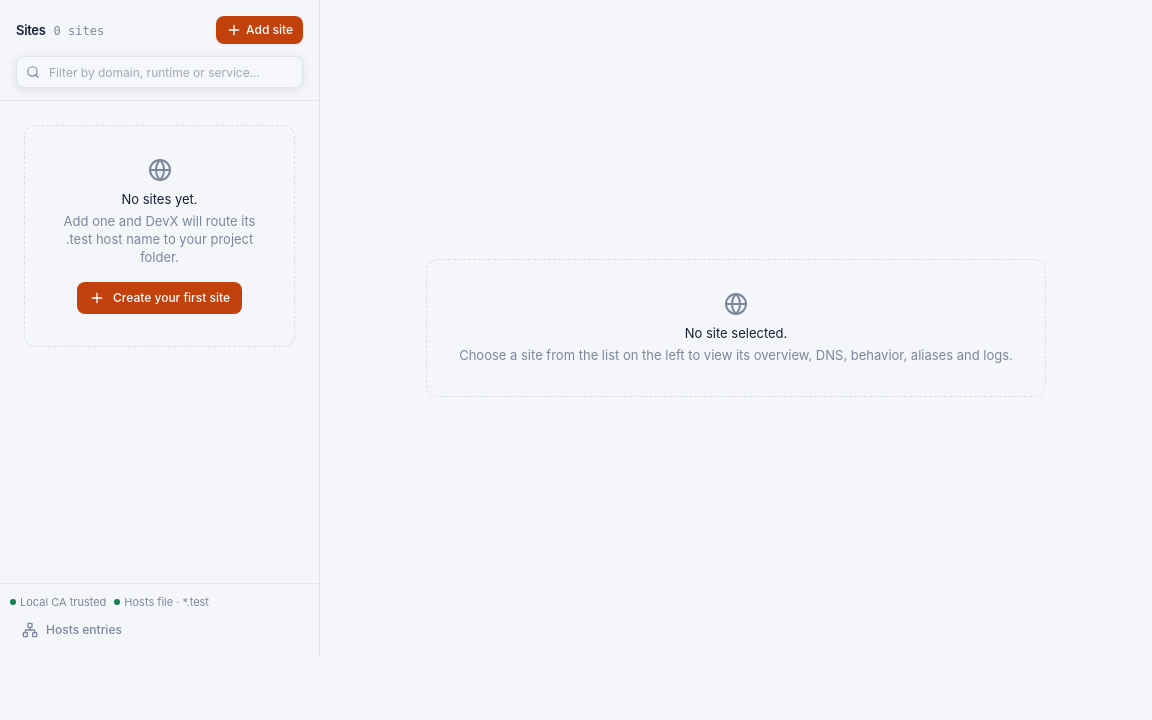
Test: SitesPage › offers the retry for the PHP list inside the dialog that needs it (§39)
Click the button "Add site". click: (260, 30)
box: [216,16,303,44]
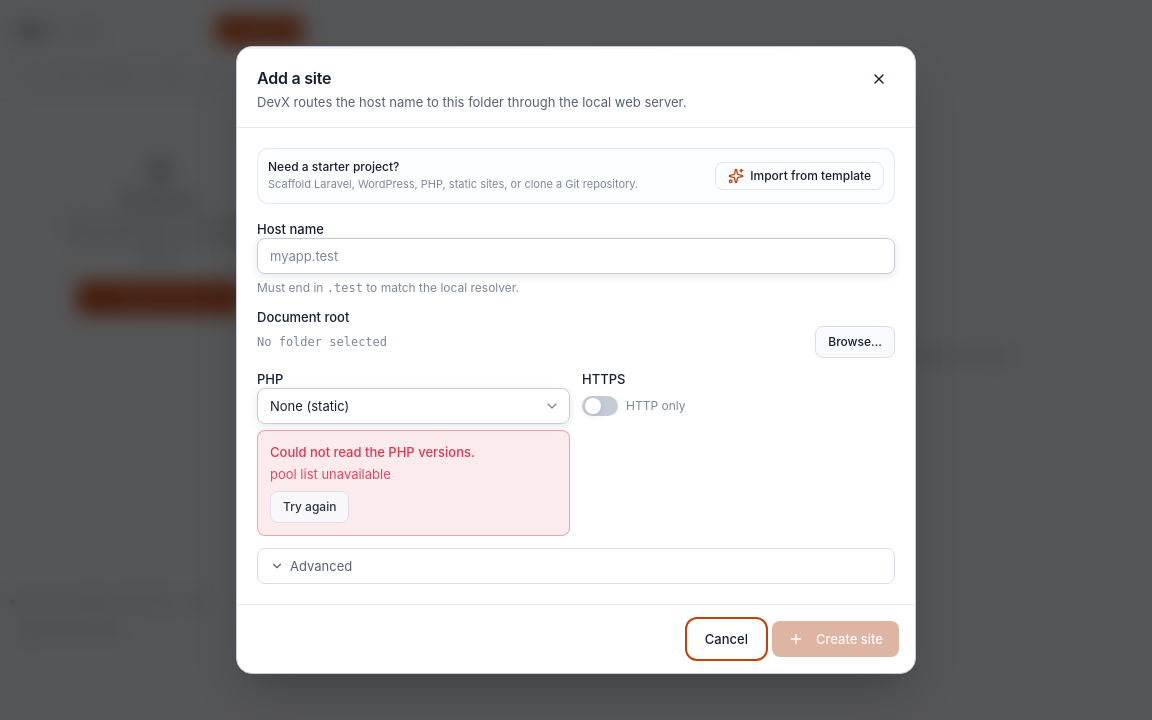
Result: the text "Could not read the PHP versions." is shown at [270,444,475,460]
Result: the text "pool list unavailable" is shown at [270,466,391,482]
Click the button "Try again". click: (310, 507)
box: [270,491,349,523]
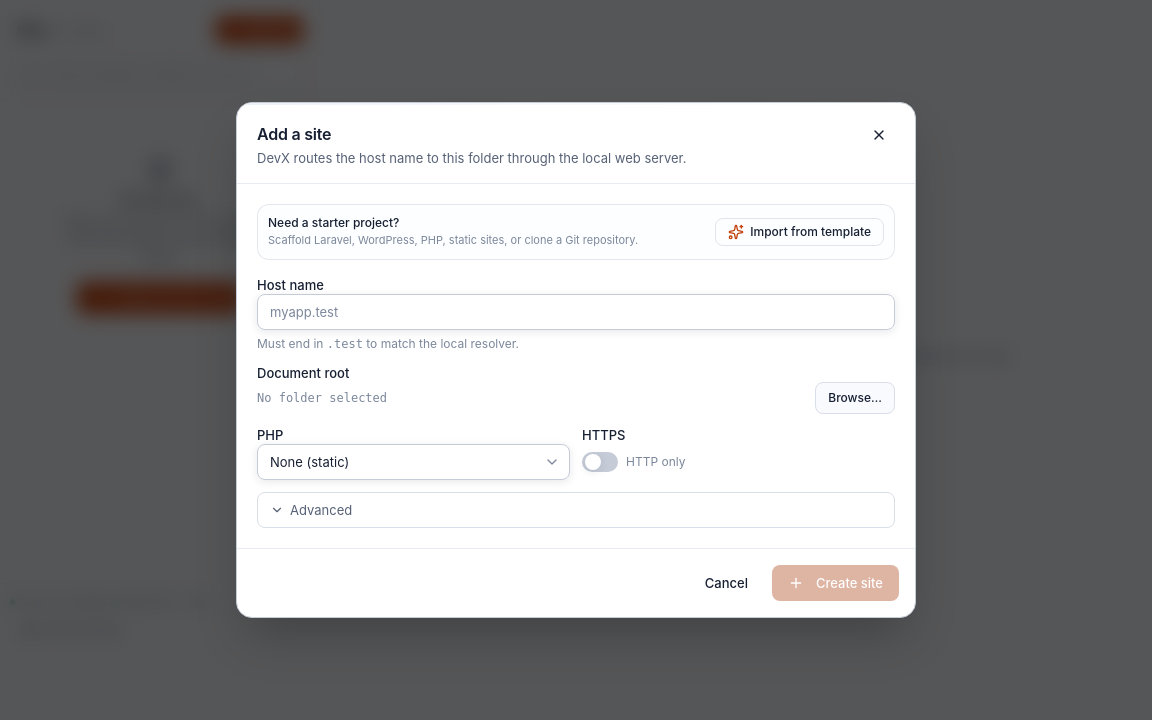
Result: the text "Could not read the PHP versions." is gone
